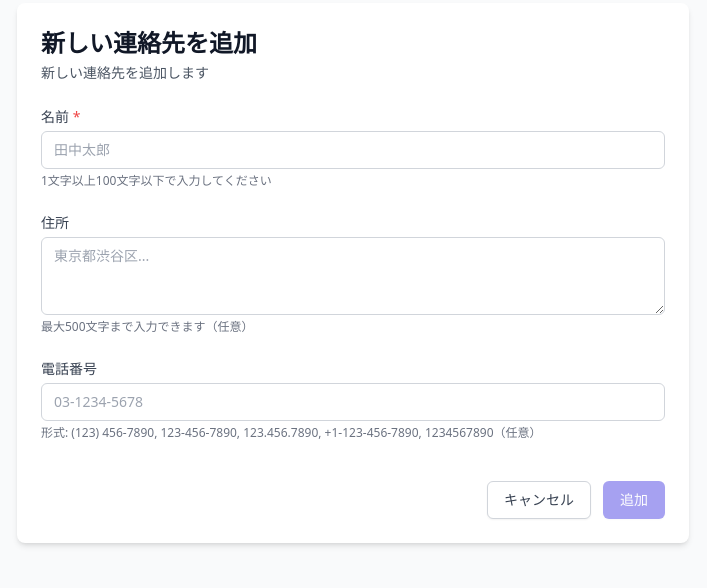
Scenario: ContactForm.vue › Field-specific error messages › displays error message below name field
Note: Enter a name then clear it to trigger validation
Type "test" into the field with test id "contact-name" at (353,150), box [41, 131, 665, 169]
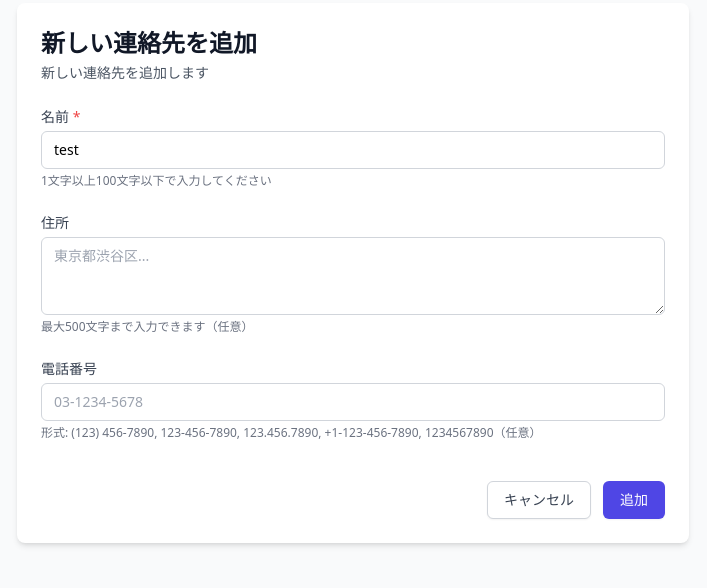
Clear the field with test id "contact-name" at (353,150), box [41, 131, 665, 169]
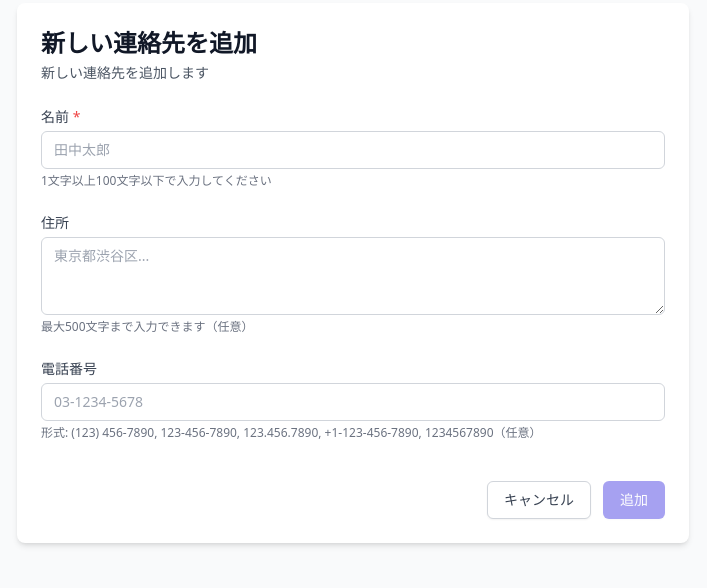
Note: Try to submit to trigger validation
Submit the form
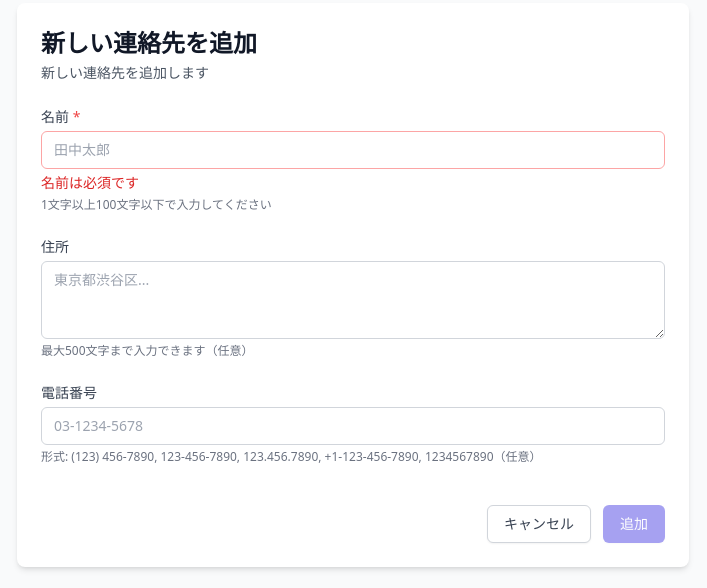
expect the text "名前は必須です" is shown: met, box [41, 173, 139, 192]
